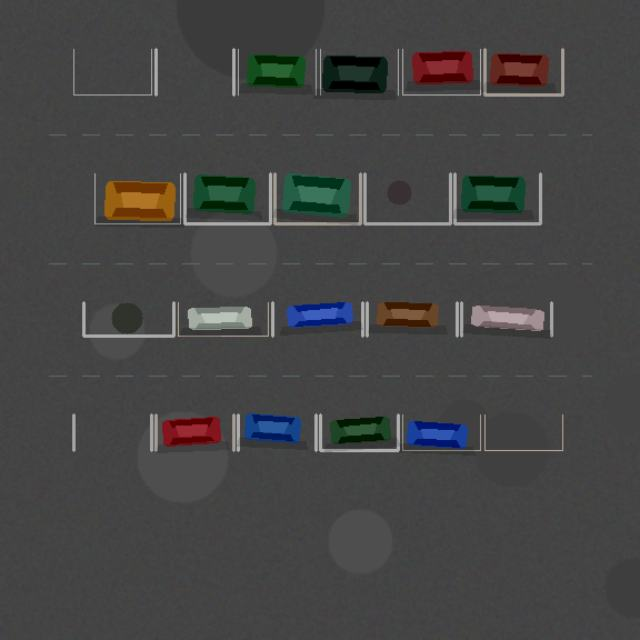space-empty: (364, 173, 450, 223), (73, 49, 151, 94), (156, 49, 233, 94), (83, 302, 173, 336), (73, 414, 151, 450), (484, 414, 562, 450)
space-occupied: (94, 173, 180, 223), (184, 173, 270, 223), (274, 173, 360, 223), (454, 173, 540, 223), (238, 49, 316, 94), (320, 49, 398, 94), (402, 49, 480, 94), (484, 49, 562, 94), (178, 302, 268, 336), (272, 302, 362, 336), (367, 302, 457, 336), (461, 302, 551, 336), (238, 414, 316, 450), (320, 414, 398, 450), (402, 414, 480, 450), (156, 414, 233, 450)
